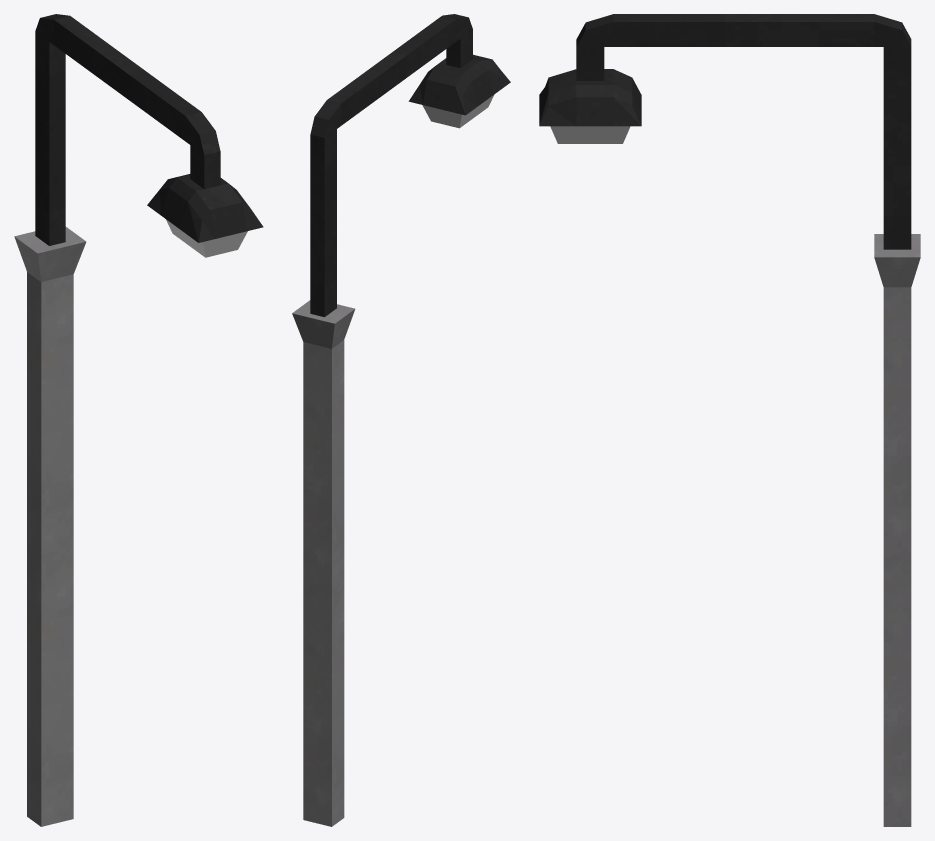
File: fonar.fbx
The picture shows the model from 3 angles, left to right: view 1: azimuth 30°, elevation 25°; view 2: azimuth 150°, elevation 25°; view 3: azimuth 270°, elevation 25°; orthographic projection. The views are drawn at different scales.
Visible parts, largest first — view 1: фонарь.008; view 2: фонарь.008; view 3: фонарь.008.
Part boxes in pixels (x1=…): фонарь.008: x1=14, y1=14, x2=263, y2=826; фонарь.008: x1=292, y1=14, x2=510, y2=826; фонарь.008: x1=539, y1=14, x2=920, y2=826.
Size of the model in its own units: 50 by 594 by 256.
